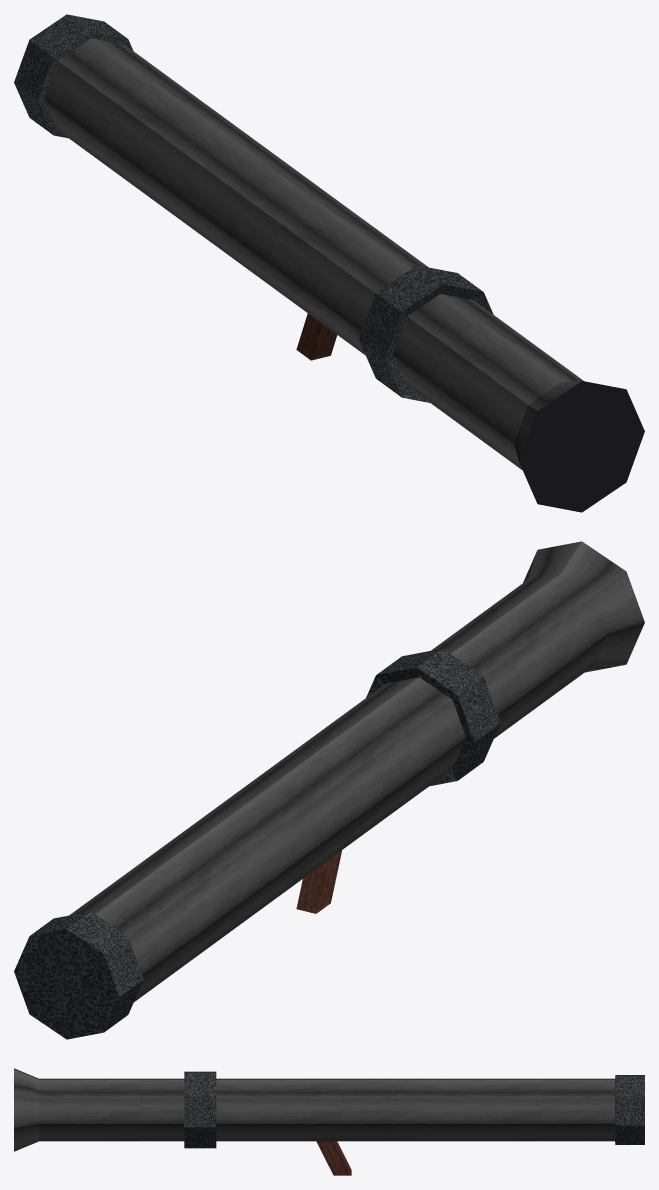
Rendered from bazooka.glb.
The picture shows the model from 3 angles, top to bottom: view 1: azimuth 30°, elevation 25°; view 2: azimuth 150°, elevation 25°; view 3: azimuth 270°, elevation 25°; orthographic projection. The views are drawn at different scales.
Parts seen in each view (by area): view 1: Cylinder; view 2: Cylinder; view 3: Cylinder.
Boxes of the visible parts, <box> form: Cylinder: <box>14,14,644,512</box>; Cylinder: <box>14,541,644,1039</box>; Cylinder: <box>14,1068,644,1175</box>.
Size of the model in its own units: 0.6983 by 0.8924 by 4.95.
3 materials, 3 textured.
